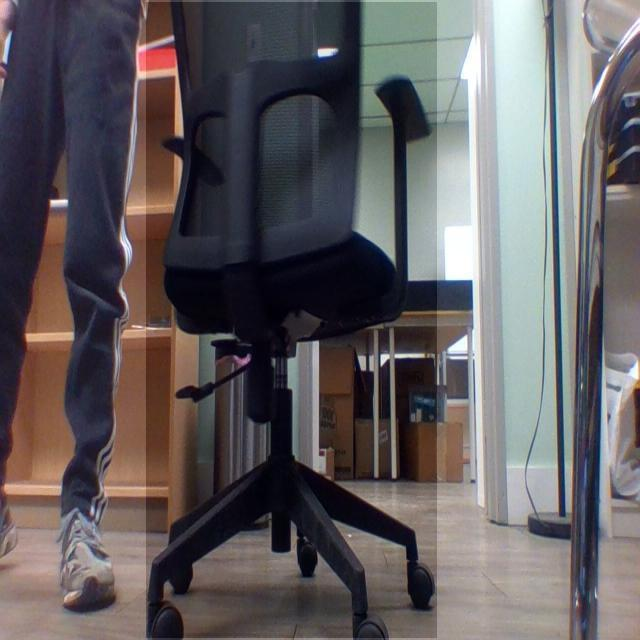chair: (148, 0, 435, 640)
